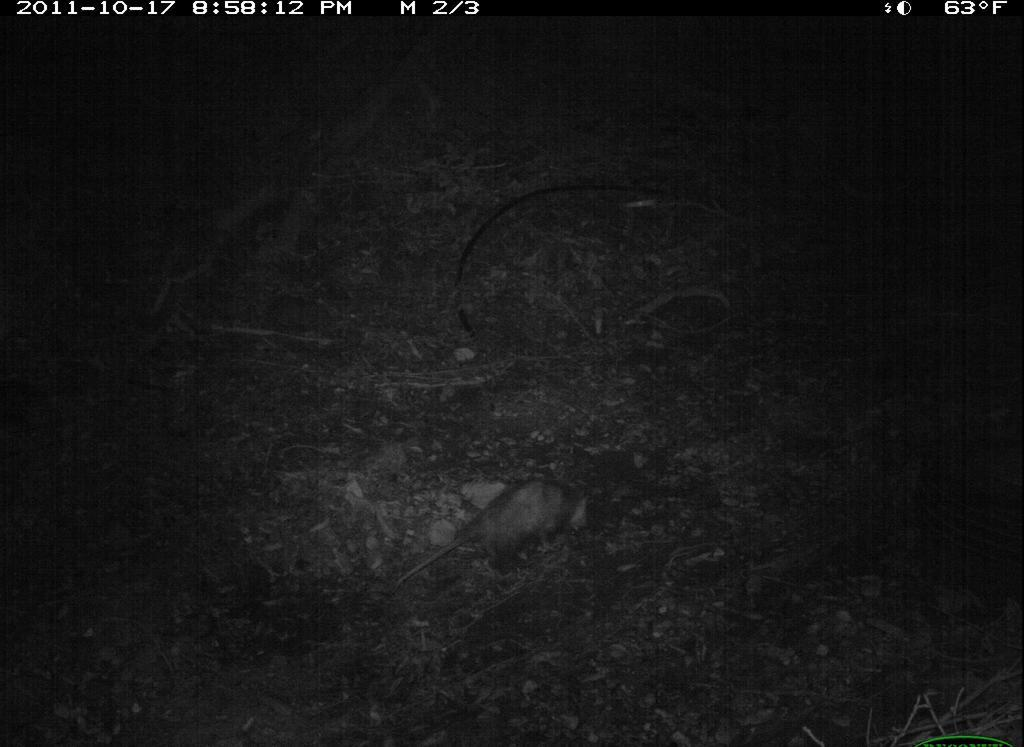opossum: (393, 475, 598, 597)
